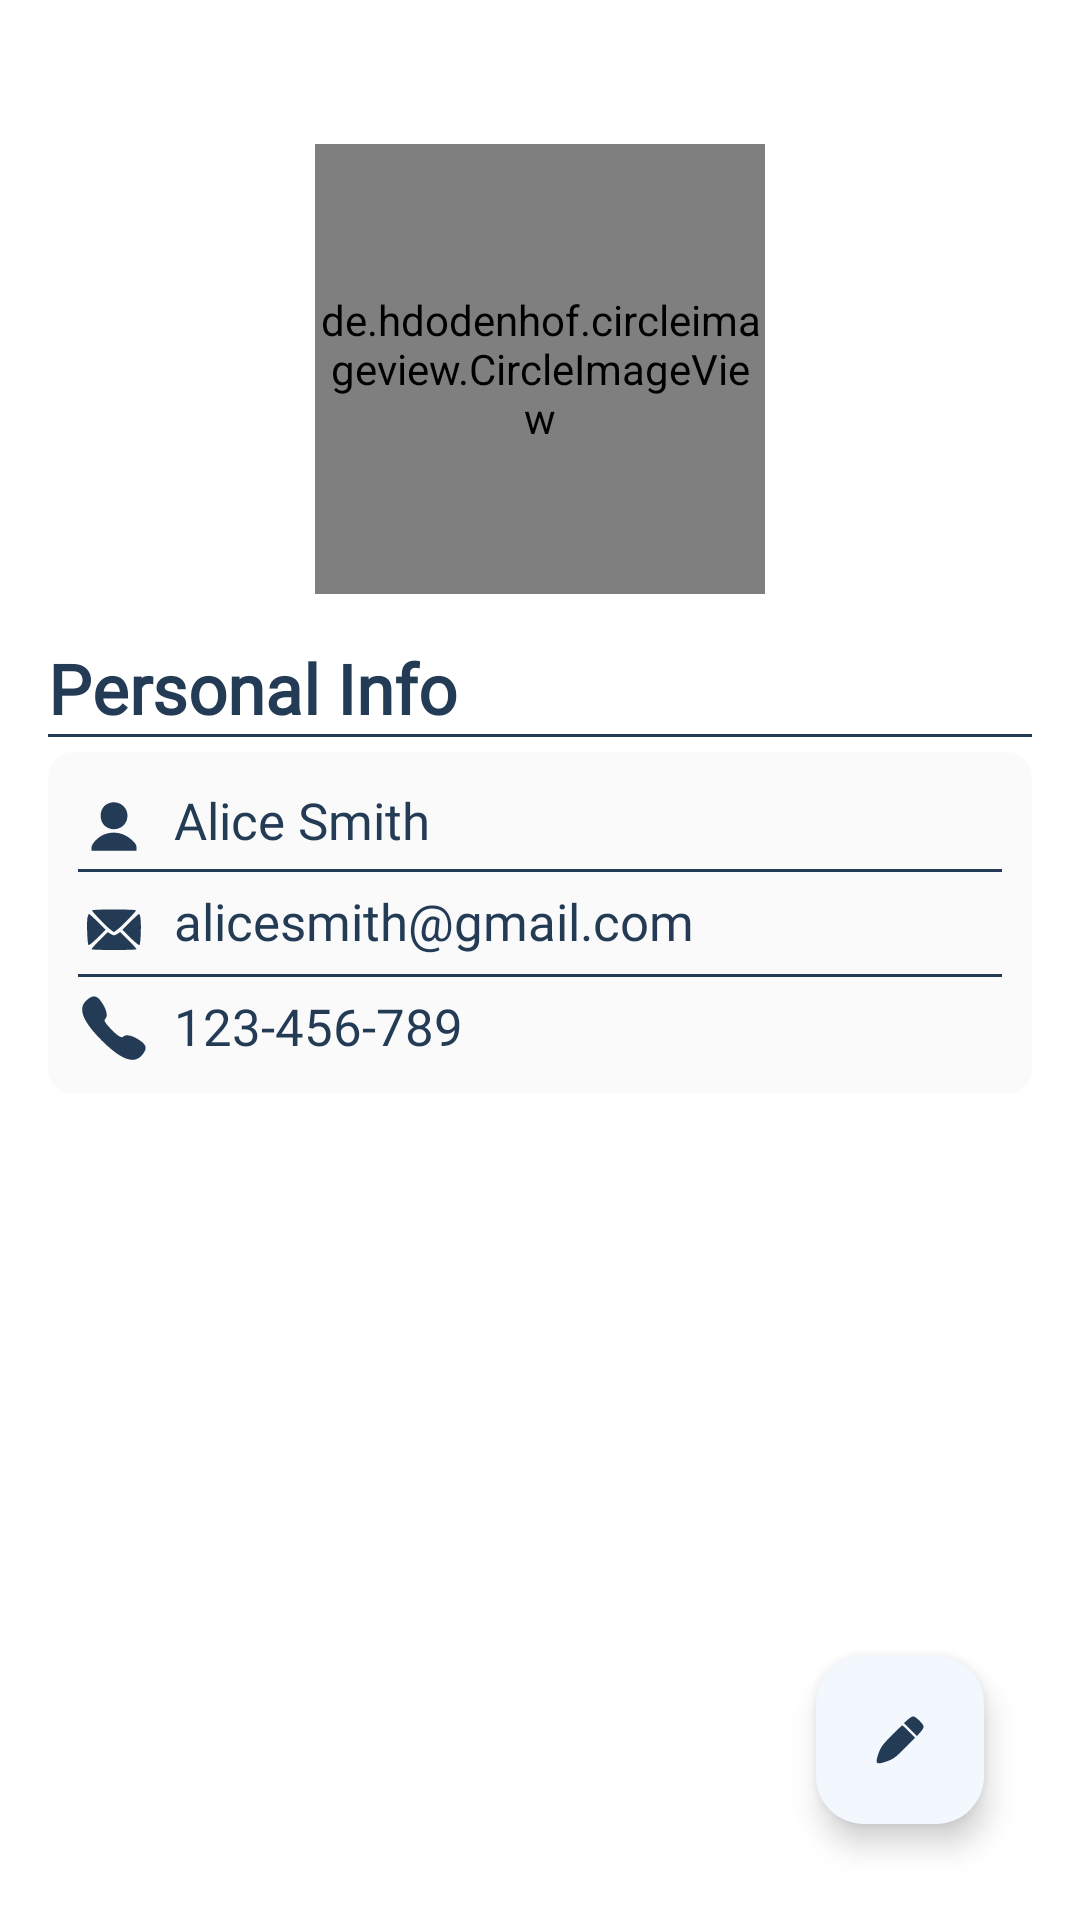

Screen size 1080x1920. Icon name, then its box in pixels as (x1, y1, x2, y2):
Edit: (816, 1656, 984, 1824)
email: (87, 909, 141, 950)
phone: (82, 996, 146, 1060)
